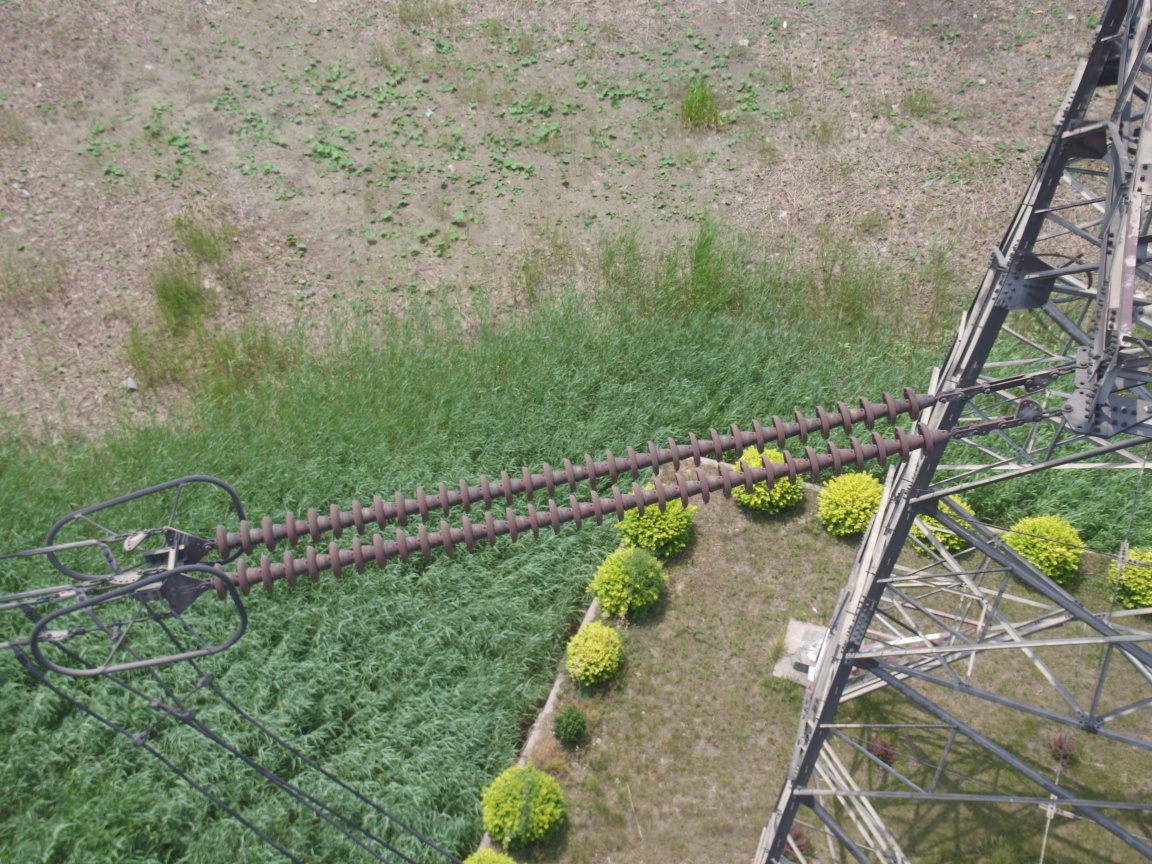insulator: (186, 376, 1000, 609)
